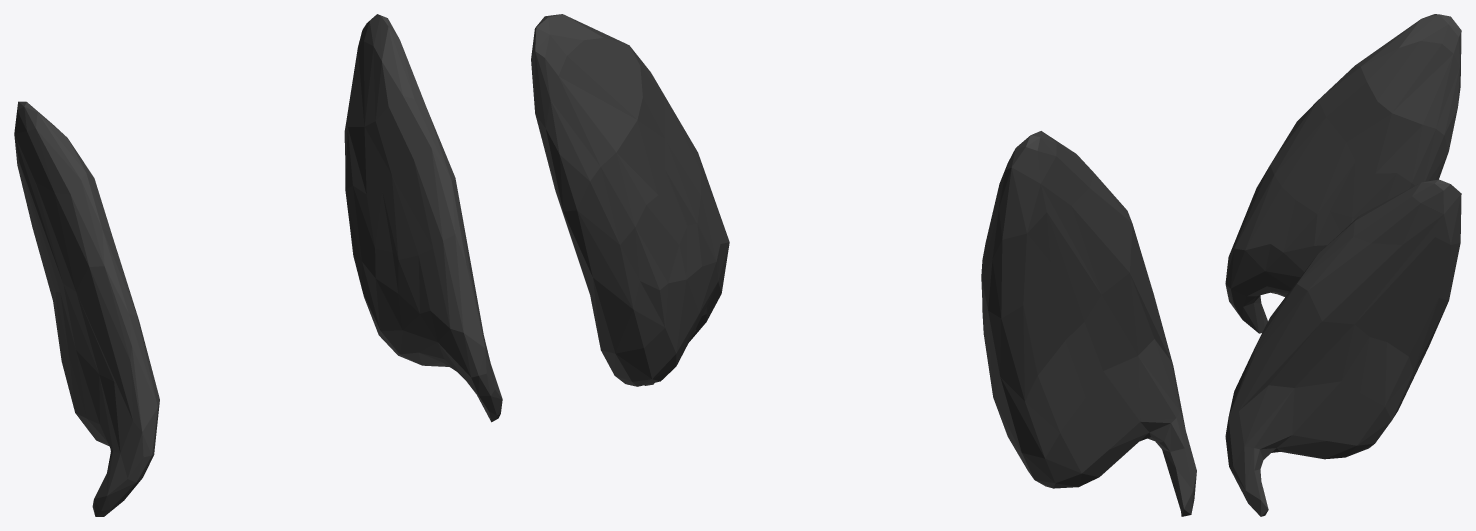
Rendered from m_quadriceps_vastus_medialis.glb.
3 views of the same model, side by side, from view 1: azimuth 30°, elevation 25°; view 2: azimuth 150°, elevation 25°; view 3: azimuth 270°, elevation 25° (orthographic). The views are drawn at different scales.
Parts seen in each view (by area): view 1: m_quadriceps_vastus_medialis; view 2: m_quadriceps_vastus_medialis; view 3: m_quadriceps_vastus_medialis.
Part boxes in pixels (x1,y1,x2,y2): m_quadriceps_vastus_medialis: (14, 14, 502, 516); m_quadriceps_vastus_medialis: (531, 14, 1196, 516); m_quadriceps_vastus_medialis: (1225, 14, 1461, 516).
Bounding box in the file's own units: 0.00597 × 0.0048 × 0.00314.
Materials: 1 (1 with a texture image).
